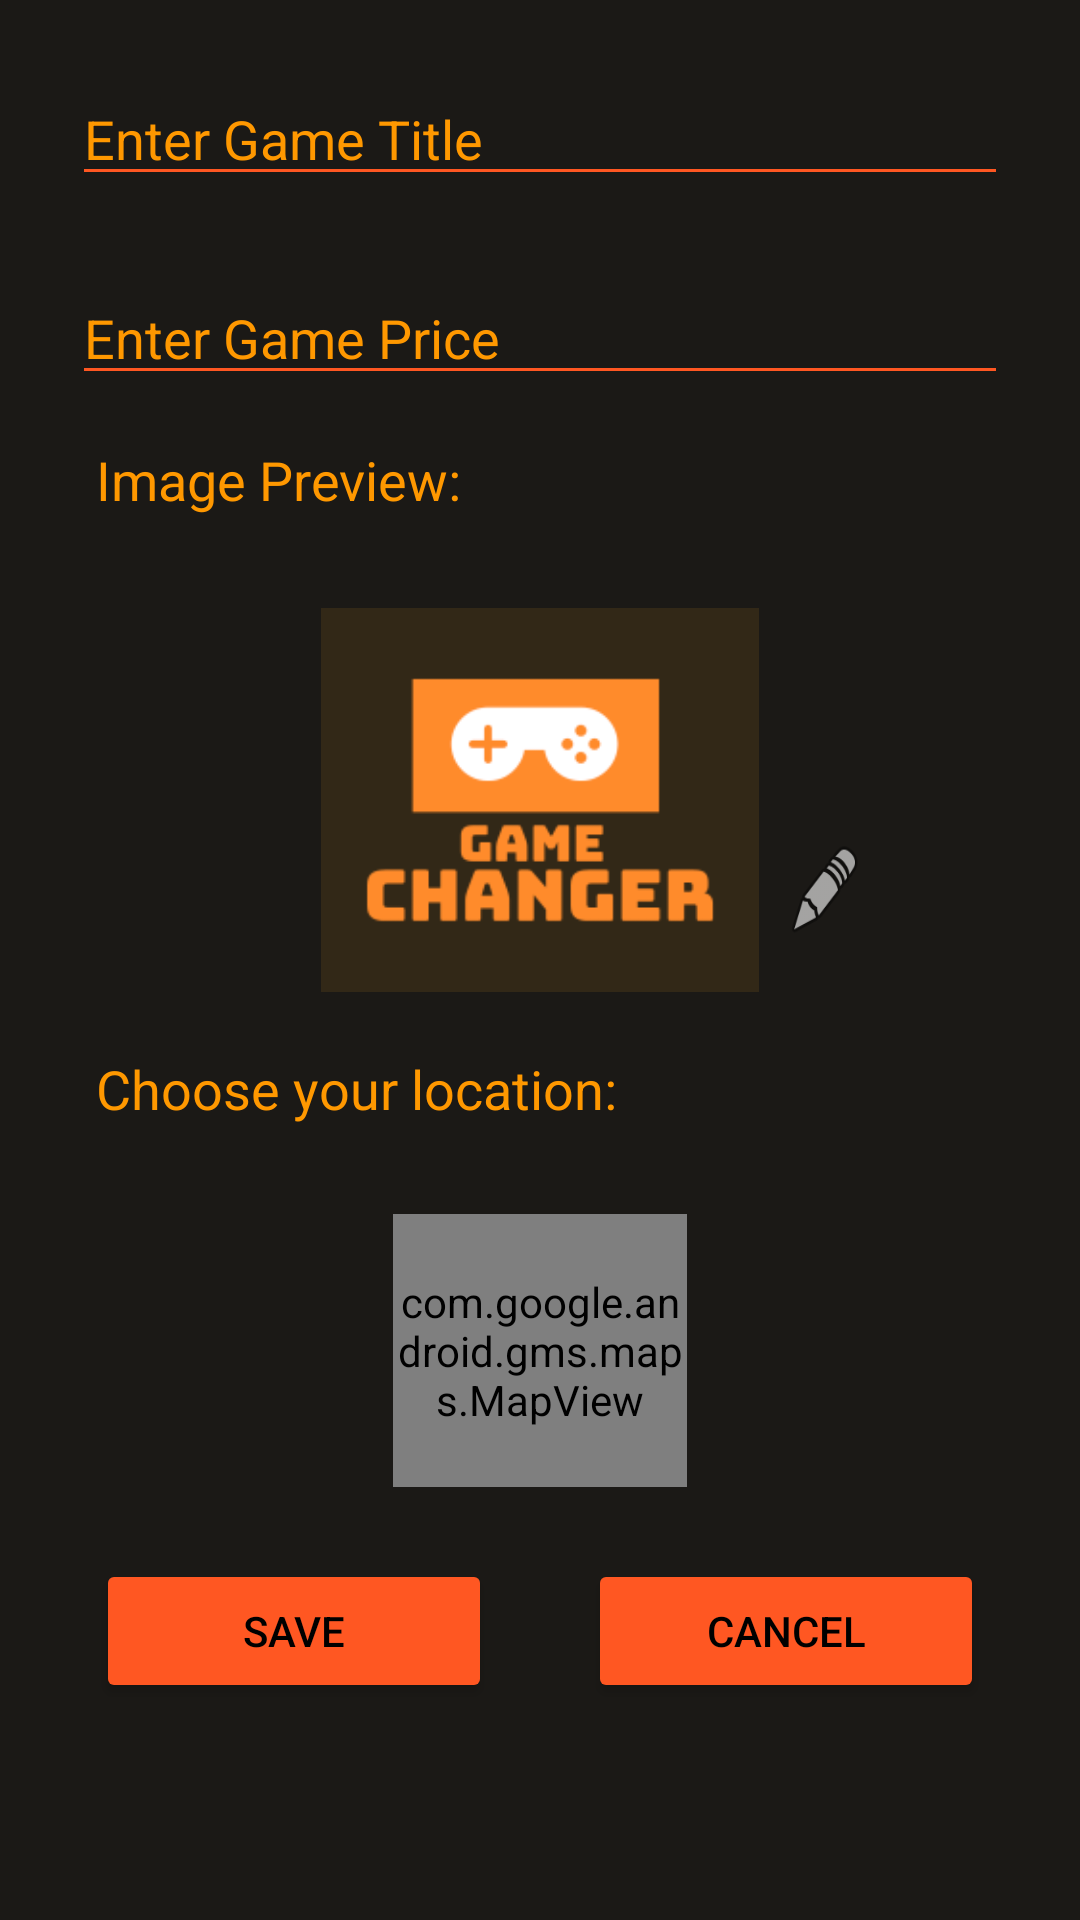

Screen size 1080 x 1920. Icon name, then its center in pixels as (x,y):
edit: (824,889)
